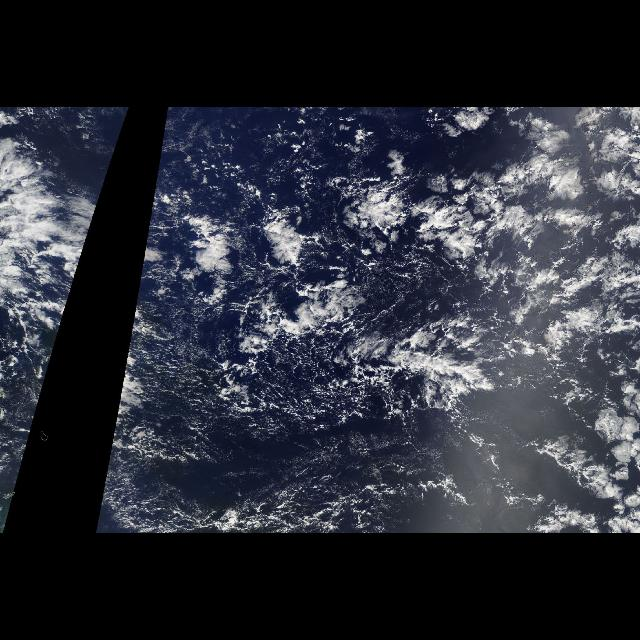Gravel: (108, 220, 516, 480)
Sugar: (102, 302, 428, 534)
